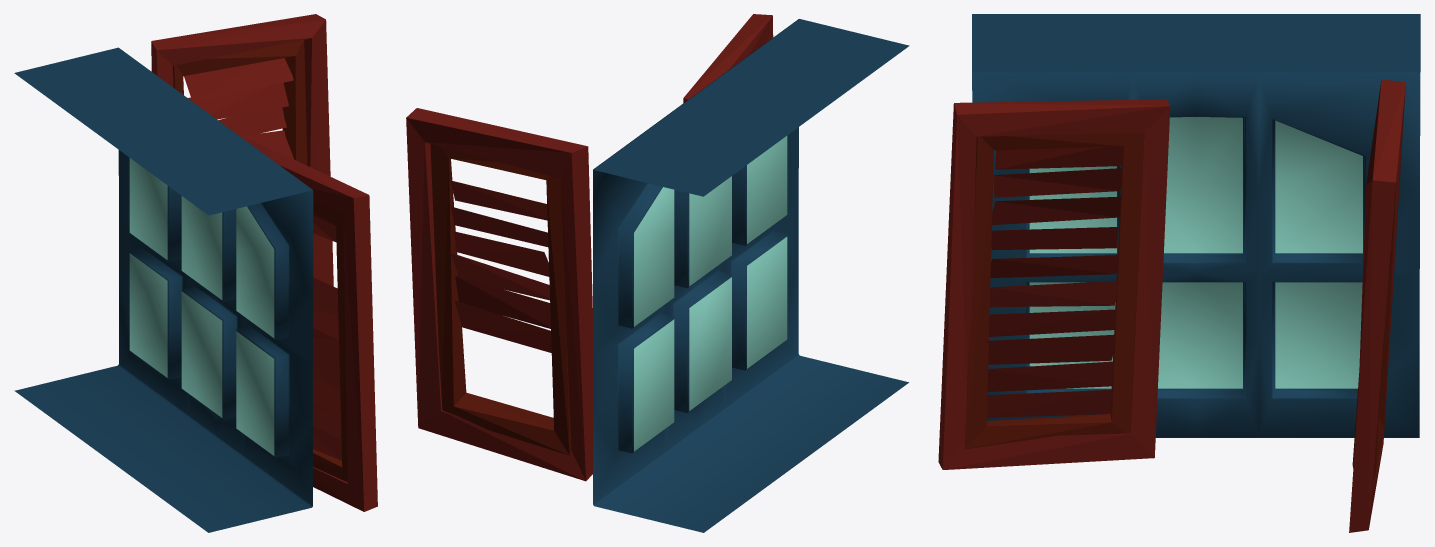
The model's file is Window_Shutters_Opened_b.fbx.
3 views of the same model, side by side, from view 1: azimuth 30°, elevation 25°; view 2: azimuth 150°, elevation 25°; view 3: azimuth 270°, elevation 25° (orthographic). The views are drawn at different scales.
Visible parts, largest first — view 1: Window_6Pane, Shutter_Left, Shutter_Right; view 2: Window_6Pane, Shutter_Right, Shutter_Left; view 3: Window_6Pane, Shutter_Left, Shutter_Right.
Boxes of the visible parts, x1,y1,x2,y2 form: Window_6Pane: [14, 47, 313, 532]; Shutter_Left: [247, 139, 377, 511]; Shutter_Right: [151, 14, 333, 286]; Window_6Pane: [593, 19, 909, 532]; Shutter_Right: [406, 108, 592, 481]; Shutter_Left: [683, 14, 773, 102]; Window_6Pane: [972, 14, 1420, 437]; Shutter_Left: [938, 99, 1170, 469]; Shutter_Right: [1349, 79, 1405, 532].
Size of the model in its own units: 1.56 by 1.93 by 1.67.
